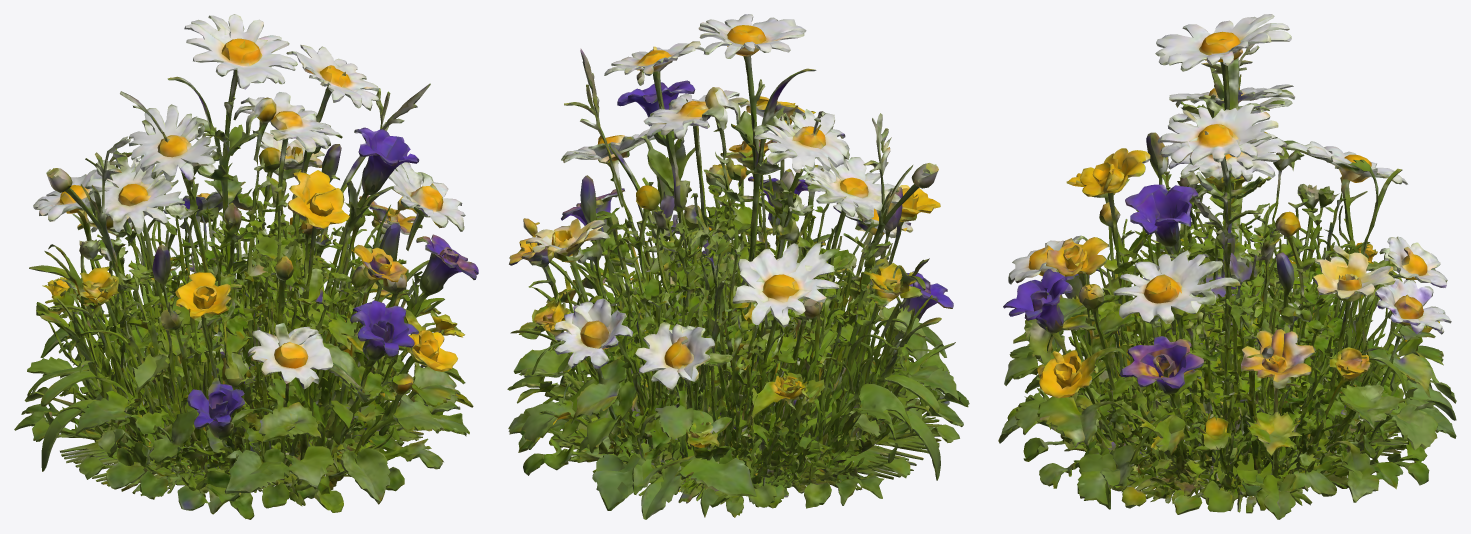
Rendered from r10-alpine-wildflowers.glb.
The picture shows the model from 3 angles, left to right: view 1: azimuth 30°, elevation 25°; view 2: azimuth 150°, elevation 25°; view 3: azimuth 270°, elevation 25°; orthographic projection. The views are drawn at different scales.
Parts seen in each view (by area): view 1: geometry_0; view 2: geometry_0; view 3: geometry_0.
Boxes of the visible parts, x1,y1,x2,y2 form: geometry_0: (14, 14, 478, 519); geometry_0: (507, 14, 969, 519); geometry_0: (998, 14, 1456, 519).
Bounding box in the file's own units: 18527 × 18023 × 18249.
Materials: 1 (1 with a texture image).
